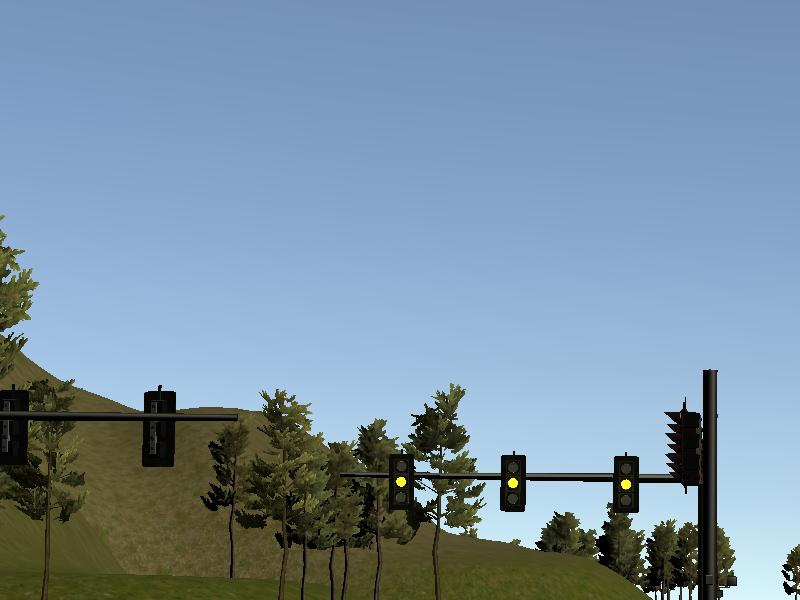Yellow: (501, 455, 524, 511)
